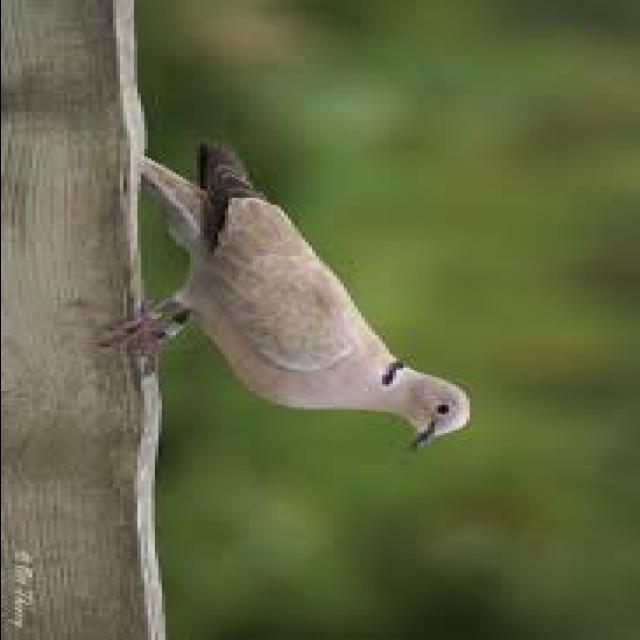pigeon: (118, 123, 487, 476)
